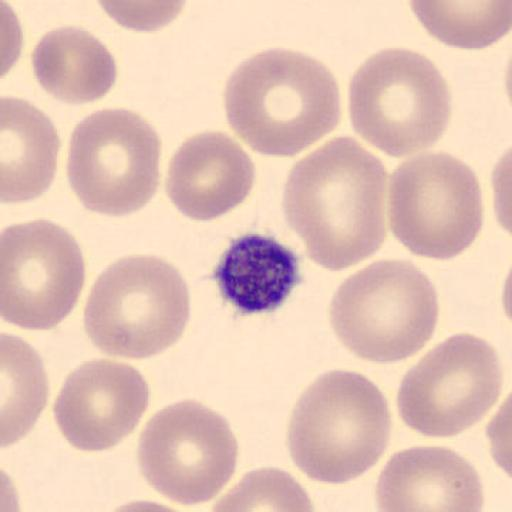Platelet: (209, 230, 307, 317)
RBC: (280, 134, 388, 274), (223, 46, 342, 159), (285, 367, 393, 486), (82, 252, 194, 362), (328, 257, 440, 365), (346, 46, 452, 160), (135, 396, 240, 508), (396, 332, 504, 440), (65, 105, 163, 218), (388, 148, 484, 262), (2, 217, 88, 332), (52, 357, 151, 454), (164, 128, 257, 224), (373, 441, 486, 512), (30, 24, 118, 106), (2, 94, 62, 205), (2, 331, 52, 449), (407, 0, 512, 51), (206, 465, 316, 512), (94, 0, 190, 34), (488, 392, 512, 488), (490, 142, 512, 243), (1, 1, 25, 84), (97, 496, 203, 512), (0, 464, 21, 512), (499, 252, 512, 329)
